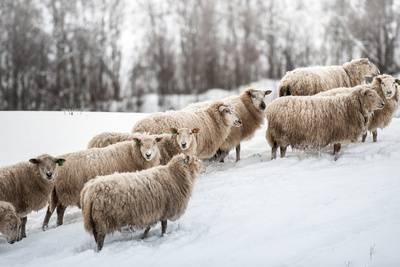sheep: (81, 150, 204, 254), (43, 133, 164, 230), (266, 84, 385, 163), (140, 98, 243, 182), (279, 56, 379, 126), (1, 152, 67, 242), (221, 85, 270, 167), (158, 124, 202, 201), (364, 72, 398, 148)
